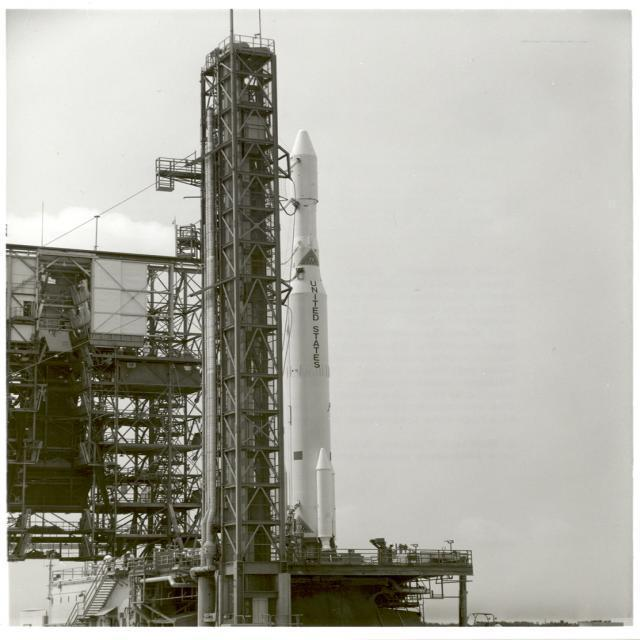missile: (278, 127, 332, 559), (314, 440, 337, 549)
